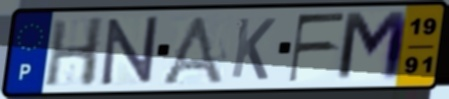A: (156, 13, 228, 87)
F: (286, 10, 350, 85)
H: (42, 15, 108, 89)
K: (228, 16, 279, 82)
M: (333, 9, 412, 84)
N: (99, 14, 160, 88)
